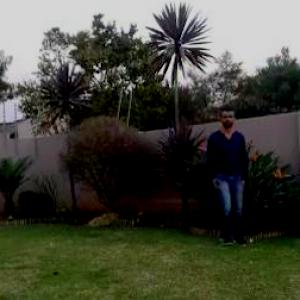follow: (208, 105, 250, 246)
